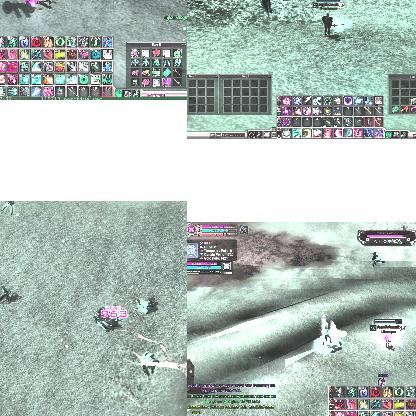caliana: (138, 298, 156, 314), (258, 0, 278, 13), (142, 354, 154, 374), (0, 286, 12, 304), (322, 328, 334, 346), (370, 252, 384, 266), (1, 202, 15, 214)
